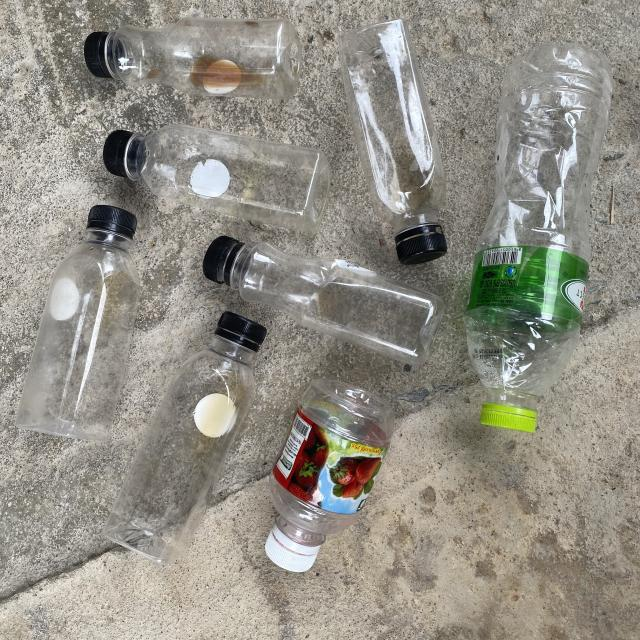plastik: (465, 44, 612, 431), (104, 311, 266, 564), (202, 236, 444, 365), (15, 205, 140, 440), (339, 20, 448, 265), (265, 379, 395, 572), (102, 125, 331, 234), (84, 18, 302, 99)
